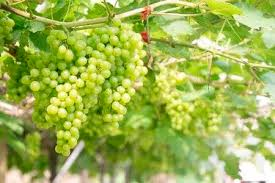grapes: (87, 24, 141, 132), (59, 46, 90, 156), (27, 55, 58, 129), (5, 61, 32, 99)
